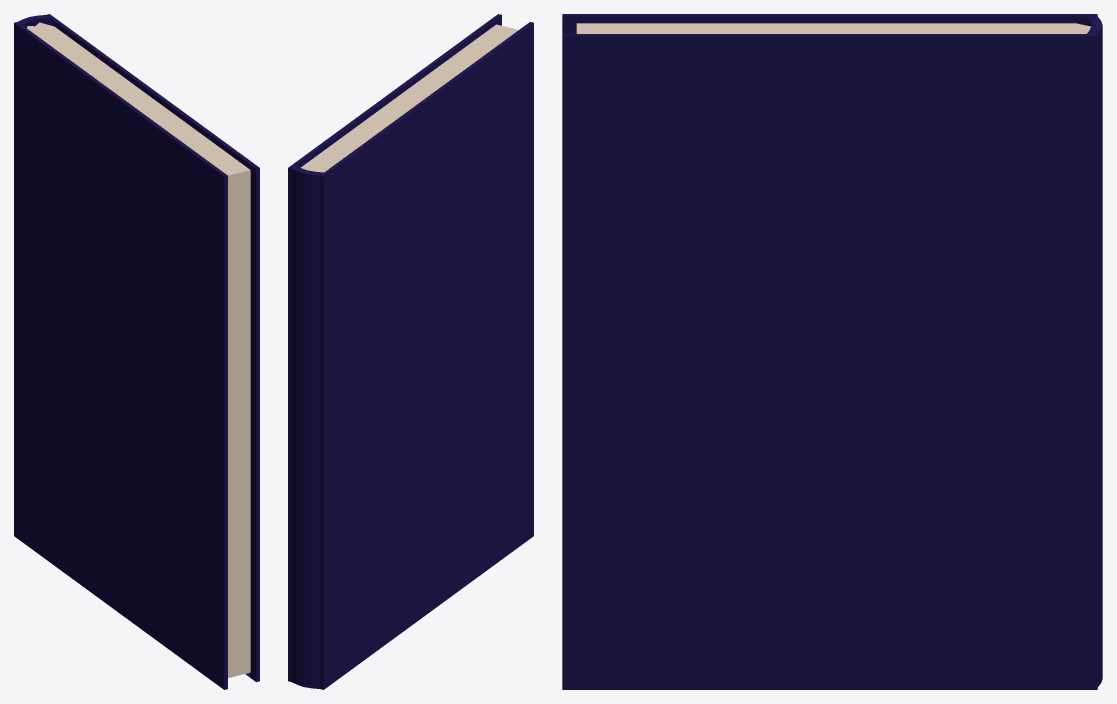
The model's file is livro3.fbx.
3 renders of one model, left to right at view 1: azimuth 30°, elevation 25°; view 2: azimuth 150°, elevation 25°; view 3: azimuth 270°, elevation 25°, orthographic. The views are drawn at different scales.
Visible parts, largest first — view 1: Cube; view 2: Cube; view 3: Cube.
Part boxes in pixels (x1=…): Cube: x1=14, y1=14, x2=259, y2=689; Cube: x1=288, y1=14, x2=533, y2=689; Cube: x1=562, y1=14, x2=1102, y2=689.
Bounding box in the file's own units: 12.82 × 176 × 132.
